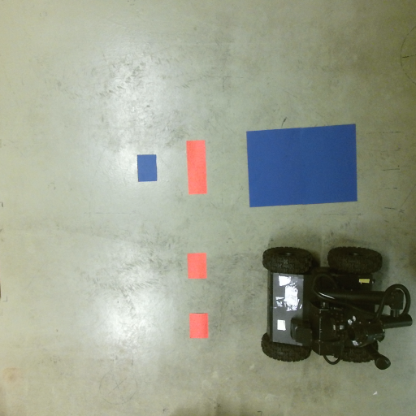Blue: (243, 127, 360, 206), (135, 152, 159, 184)
Jaguar: (260, 246, 416, 372)
Red: (185, 139, 210, 195), (185, 250, 208, 282), (187, 312, 211, 341)
